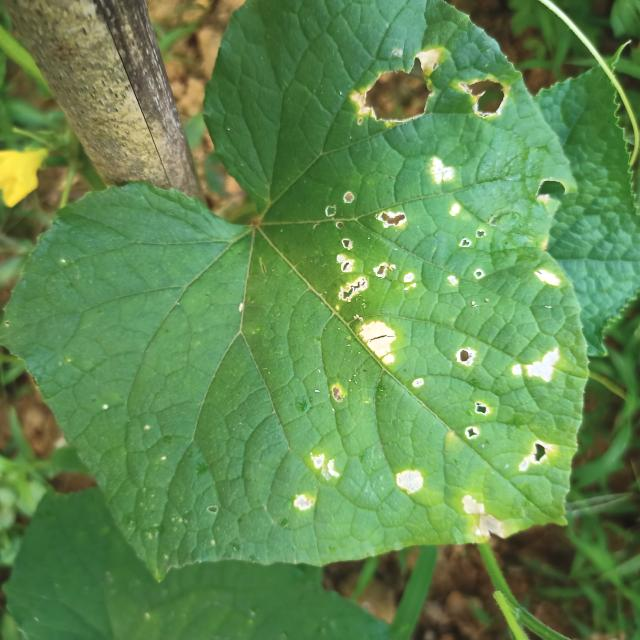disease_cucumber: (322, 186, 427, 306), (351, 46, 448, 134), (289, 448, 347, 511), (506, 339, 563, 389), (351, 313, 402, 367), (461, 72, 508, 124), (458, 494, 502, 540), (513, 437, 554, 477), (460, 394, 492, 440), (426, 152, 458, 190), (391, 464, 426, 496), (450, 342, 478, 372), (534, 266, 559, 293)
